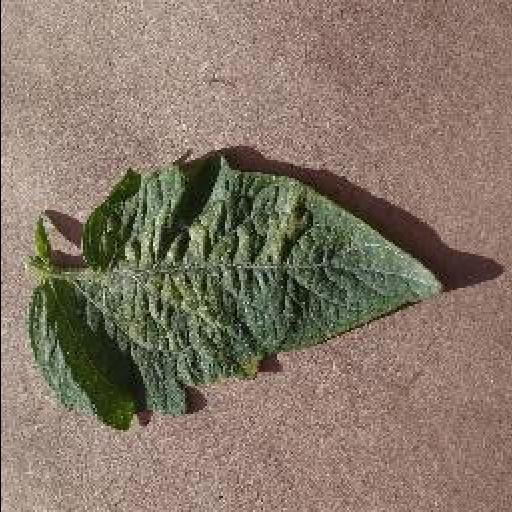disease_tomato: (26, 155, 442, 433)
